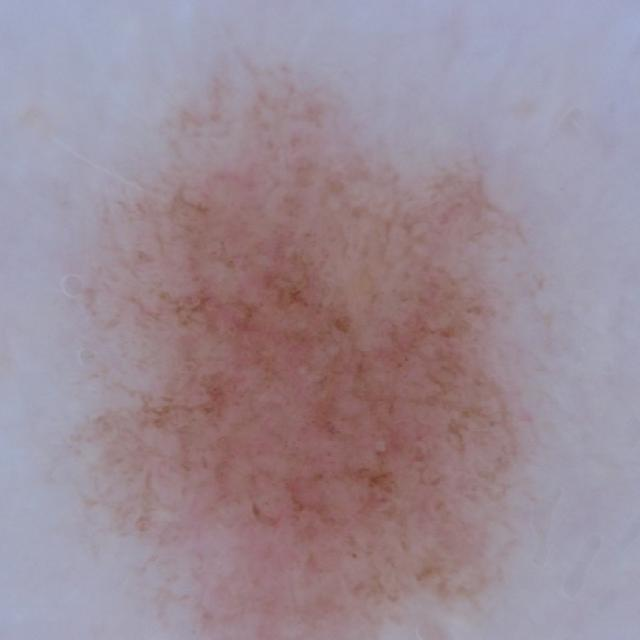Melanoma: (53, 71, 569, 640)
